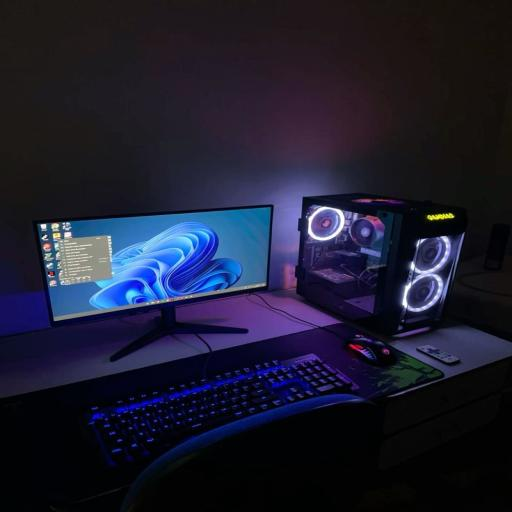computer case: (295, 193, 467, 334)
monitor: (34, 205, 271, 327)
